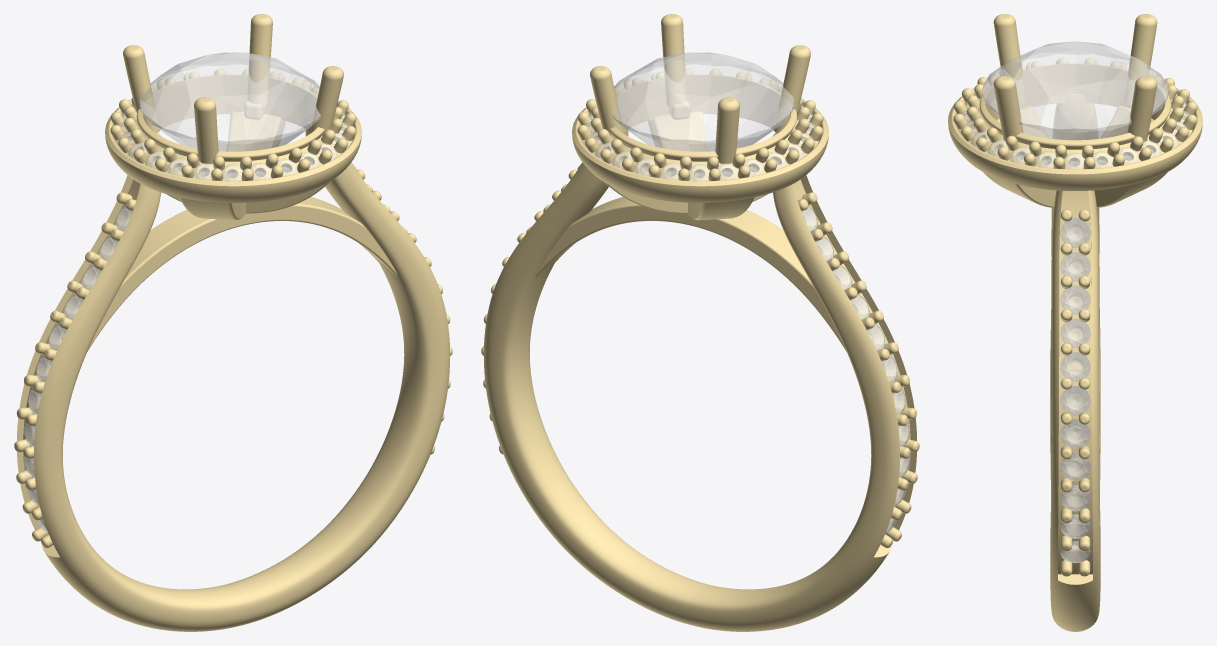
3 views of the same model, side by side, from view 1: azimuth 30°, elevation 25°; view 2: azimuth 150°, elevation 25°; view 3: azimuth 270°, elevation 25° (orthographic).
Visible parts, largest first — view 1: NNObj_59, NNObj_58, NNObj_60, NNObj_24, NNObj_57, NNObj_52, NNObj_54, NNObj_50, NNObj_49, NNObj_47, NNObj_56, NNObj_55; view 2: NNObj_59, NNObj_58, NNObj_60, NNObj_24, NNObj_57, NNObj_47, NNObj_55, NNObj_49, NNObj_50, NNObj_52, NNObj_53, NNObj_54; view 3: NNObj_59, NNObj_60, NNObj_24, NNObj_58, NNObj_49, NNObj_50, NNObj_52, NNObj_47, NNObj_54, NNObj_55, NNObj_41, NNObj_42 (+11 smaller).
Boxes of the visible parts, x1,y1,x2,y2 form: NNObj_59: (226,122,450,625); NNObj_58: (17,175,245,631); NNObj_60: (105,75,361,202); NNObj_24: (140,52,320,151); NNObj_57: (61,197,398,351); NNObj_52: (247,14,272,106); NNObj_54: (226,112,285,151); NNObj_50: (123,45,159,133); NNObj_49: (194,97,218,164); NNObj_47: (309,66,343,135); NNObj_56: (179,197,245,220); NNObj_55: (246,182,329,213); NNObj_59: (483,122,707,625); NNObj_58: (688,175,916,631); NNObj_60: (572,75,828,202); NNObj_24: (613,52,793,151); NNObj_57: (535,197,872,351); NNObj_47: (661,14,686,106); NNObj_55: (648,112,707,151); NNObj_49: (774,45,810,133); NNObj_50: (715,97,739,164); NNObj_52: (590,66,624,135); NNObj_53: (688,197,754,220); NNObj_54: (604,182,687,213); NNObj_59: (1050,190,1100,631); NNObj_60: (948,64,1202,190); NNObj_24: (982,41,1168,140); NNObj_58: (1050,94,1100,493); NNObj_49: (993,14,1026,104); NNObj_50: (1124,14,1157,104); NNObj_52: (1127,76,1157,142); NNObj_47: (993,76,1023,141); NNObj_54: (1094,172,1167,207); NNObj_55: (983,172,1056,207); NNObj_41: (1060,386,1090,415); NNObj_42: (1060,352,1090,381).
Size of the model in its own units: 0.021 by 0.0266 by 0.011.
